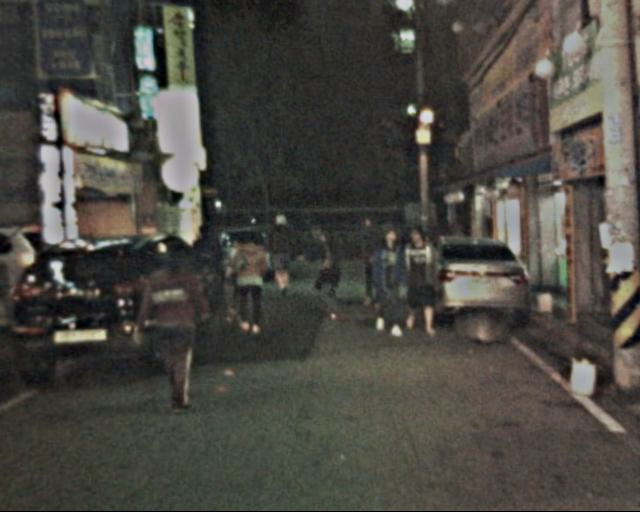person: (142, 240, 207, 404), (365, 229, 412, 333), (400, 226, 444, 334), (228, 227, 269, 333), (258, 212, 302, 299), (305, 226, 345, 321), (187, 224, 226, 317), (350, 215, 389, 305)
